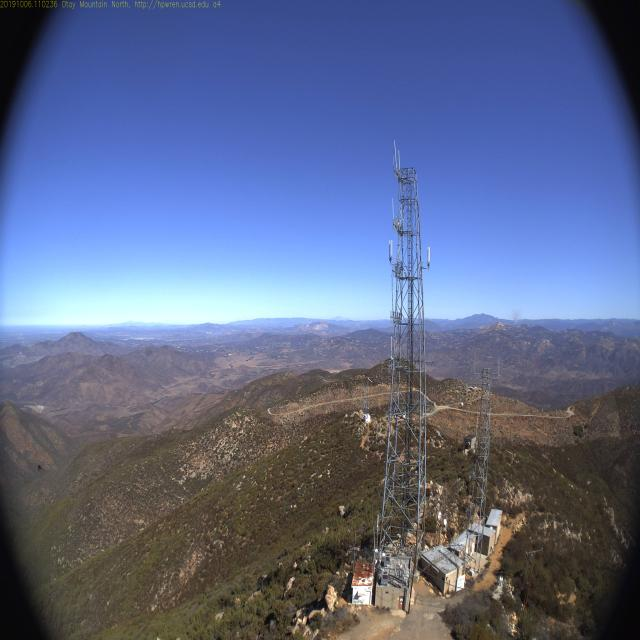smoke: (507, 305, 522, 325)
